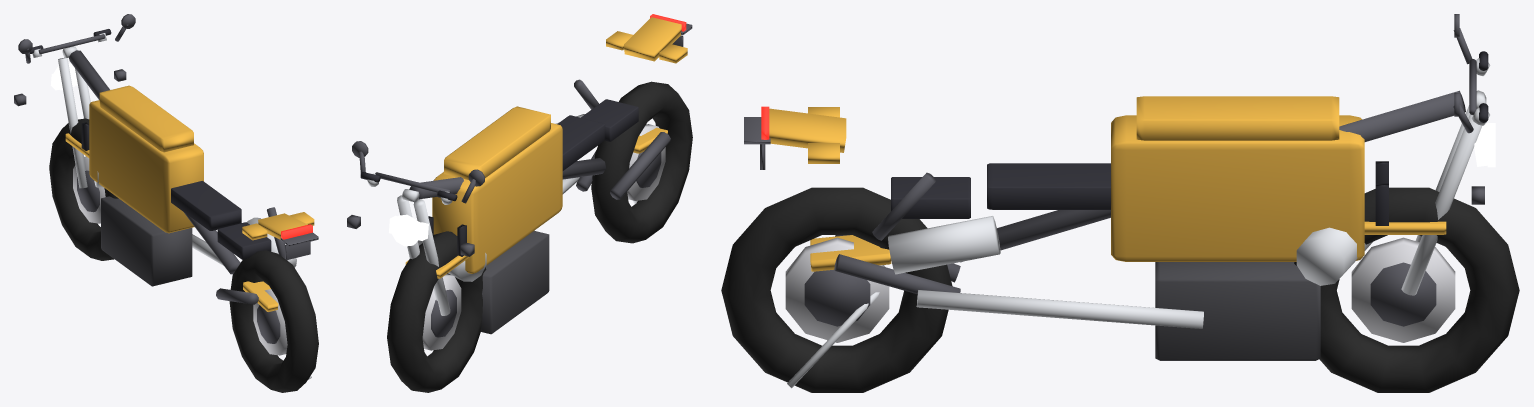
The model's file is bike_mx.glb.
3 renders of one model, left to right at view 1: azimuth 30°, elevation 25°; view 2: azimuth 150°, elevation 25°; view 3: azimuth 270°, elevation 25°, orthographic. The views are drawn at different scales.
Parts seen in each view (by area): view 1: Tank, Tire1, Engine, Tire0, TankTop, Seat, FrameMain, SeatRear, Fork-1, Rim1, Hub_Rim1, Tail (+12 smaller); view 2: Tank, Tire1, Tire0, Engine, TankTop, Seat, Tail, SeatRear, FrameMain, Swingarm_R, Rim0, Fork-1 (+12 smaller); view 3: Tank, Tire1, Tire0, Engine, TankTop, Seat, ExhPipe, Rim0, FrameMain, ExhCan, Rim1, Hub_Rim0 (+10 smaller).
Part boxes in pixels (<box>): Tank: <box>89,100,203,233</box>; Tire1: <box>229,250,318,392</box>; Engine: <box>101,196,192,286</box>; Tire0: <box>49,118,118,260</box>; TankTop: <box>99,85,193,152</box>; Seat: <box>171,181,241,230</box>; FrameMain: <box>68,50,240,274</box>; SeatRear: <box>217,222,271,259</box>; Fork-1: <box>58,57,87,188</box>; Rim1: <box>253,289,287,355</box>; Hub_Rim1: <box>257,305,280,343</box>; Tail: <box>258,213,307,239</box>; Tank: <box>432,123,562,273</box>; Tire1: <box>591,81,692,243</box>; Tire0: <box>387,231,486,392</box>; Engine: <box>447,230,549,334</box>; TankTop: <box>444,106,550,179</box>; Seat: <box>557,115,605,170</box>; Tail: <box>624,17,681,61</box>; SeatRear: <box>581,99,638,141</box>; FrameMain: <box>409,158,605,199</box>; Swingarm_R: <box>610,132,670,199</box>; Rim0: <box>422,274,461,350</box>; Fork-1: <box>413,199,450,315</box>; Tank: <box>1111,115,1364,261</box>; Tire1: <box>721,187,952,392</box>; Tire0: <box>1294,187,1519,392</box>; Engine: <box>1155,262,1320,360</box>; TankTop: <box>1136,96,1339,140</box>; Seat: <box>987,163,1110,209</box>; ExhPipe: <box>916,290,1203,328</box>; Rim0: <box>1351,237,1455,342</box>; FrameMain: <box>960,90,1465,262</box>; ExhCan: <box>888,216,1000,274</box>; Rim1: <box>785,237,889,342</box>; Hub_Rim0: <box>1370,262,1436,326</box>.
Bounding box in the file's own units: 0.7856 × 1.4 × 2.99.
